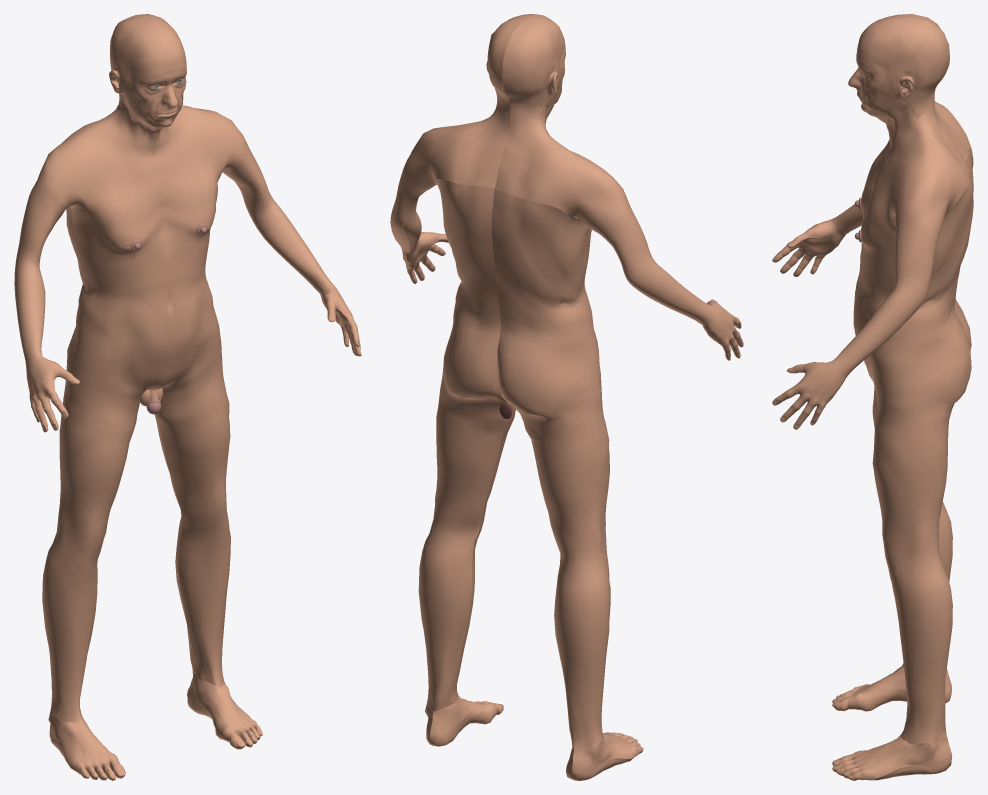
File: body-hochbetagt-maennlich-real-v3.glb
The picture shows the model from 3 angles, left to right: view 1: azimuth 30°, elevation 25°; view 2: azimuth 150°, elevation 25°; view 3: azimuth 270°, elevation 25°; orthographic projection.
Parts seen in each view (by area): view 1: real-human-body; view 2: real-human-body; view 3: real-human-body.
Part boxes in pixels (x1,y1,x2,y2): real-human-body: (14, 14, 361, 780); real-human-body: (390, 14, 743, 780); real-human-body: (772, 14, 973, 780).
Bounding box in the file's own units: 0.737 × 1.59 × 0.4027.
Materials: 8 (1 with a texture image).
